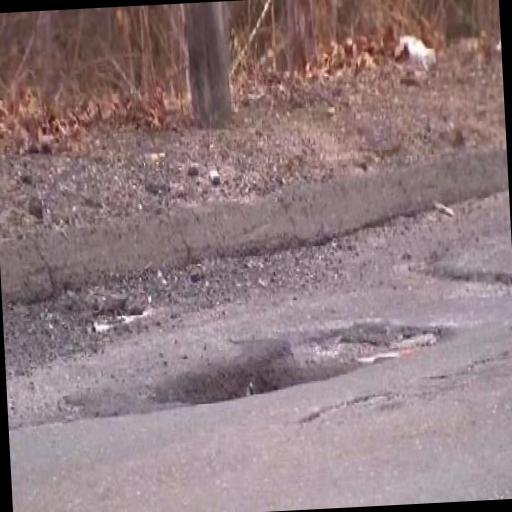pothole: (152, 310, 454, 412)
